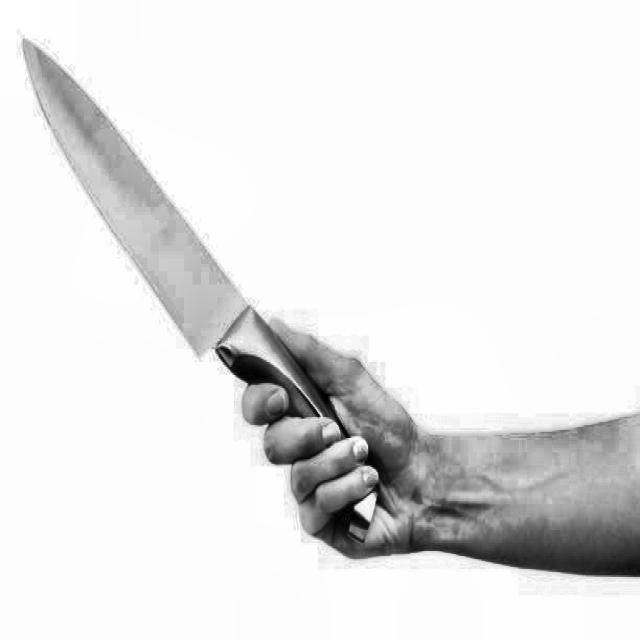pisau: (15, 24, 402, 582)
